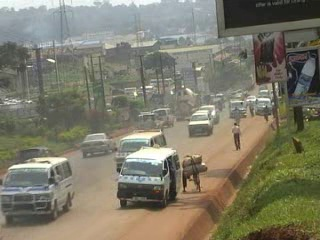Car: (14, 145, 62, 172), (80, 131, 118, 157), (186, 109, 215, 136), (137, 112, 164, 132), (200, 104, 220, 123), (243, 93, 256, 107)
